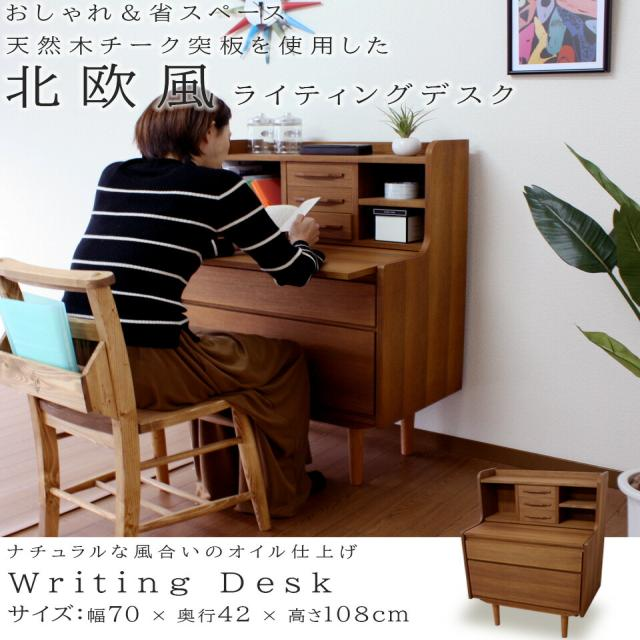vintage chair: (3, 254, 279, 540)
vintage shelf: (459, 462, 613, 638)
